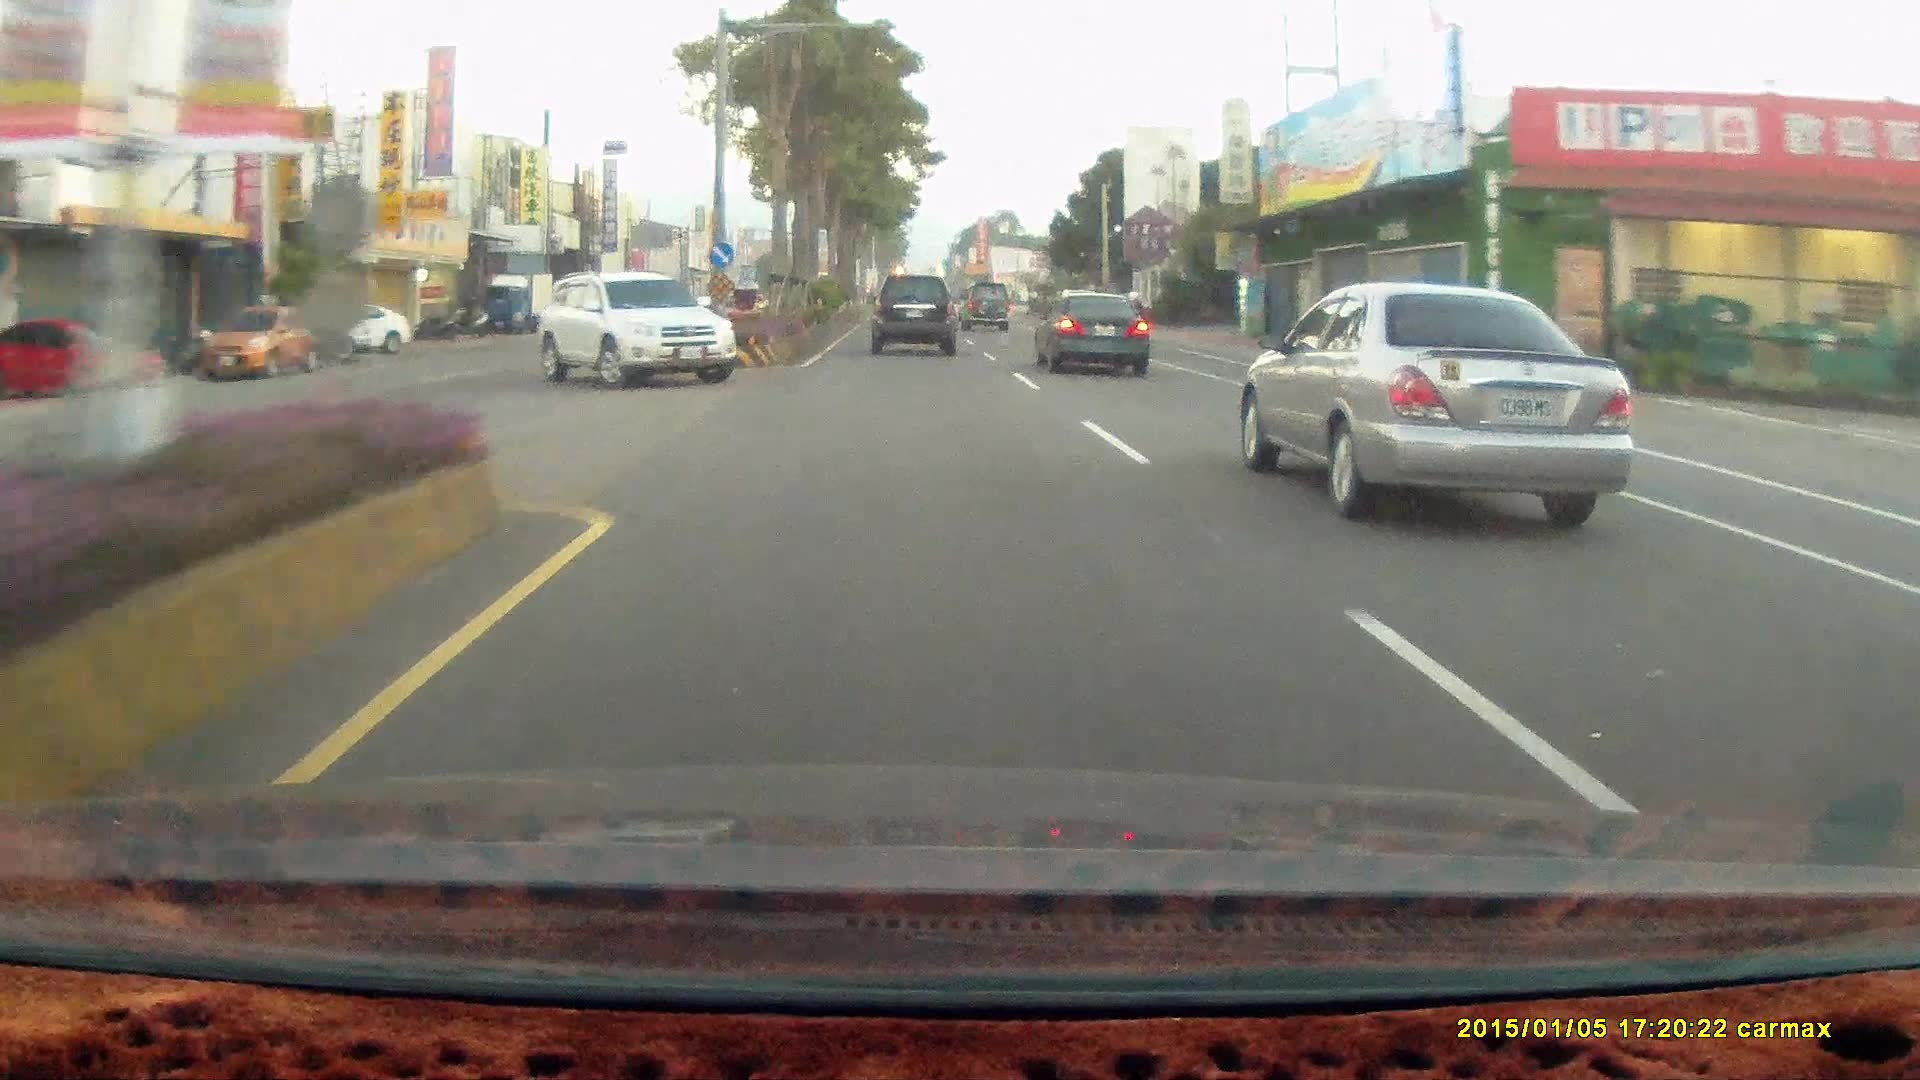vehicle: (1230, 276, 1631, 530), (529, 269, 740, 386), (529, 269, 738, 385), (3, 320, 167, 407), (0, 316, 169, 398), (1033, 286, 1150, 372), (1039, 295, 1153, 378), (198, 303, 320, 380), (872, 276, 965, 360), (869, 272, 953, 349), (298, 302, 414, 355), (298, 301, 413, 353), (957, 281, 1014, 334), (957, 280, 1013, 330)
